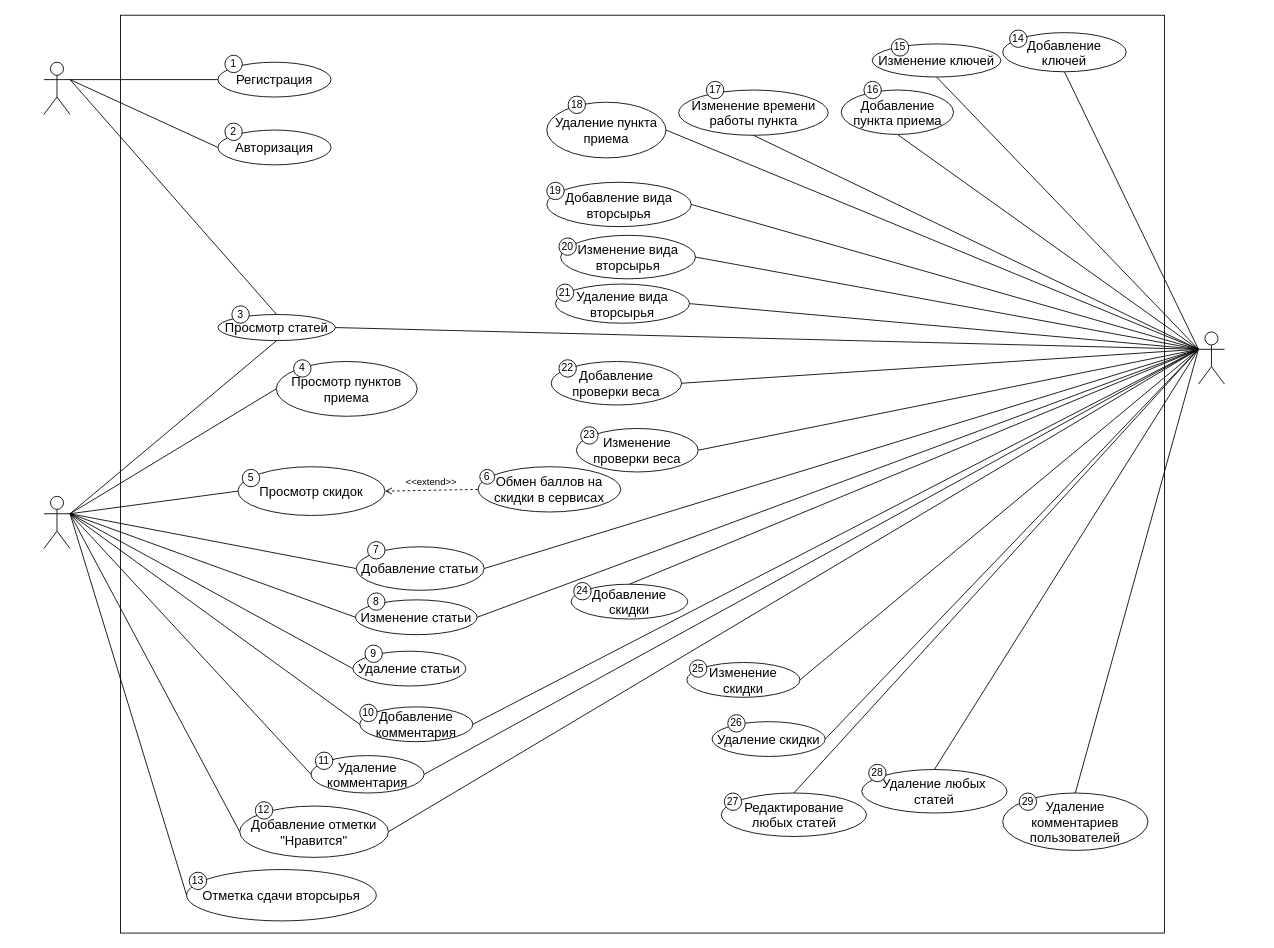
Image size: 1274x948. Some labels were removed from this diagram. The centre of each missing label's shape, as x and y in pixels:
Администратор: point 1211,357
Гость: point 56,87
Пользователь: point 56,522
